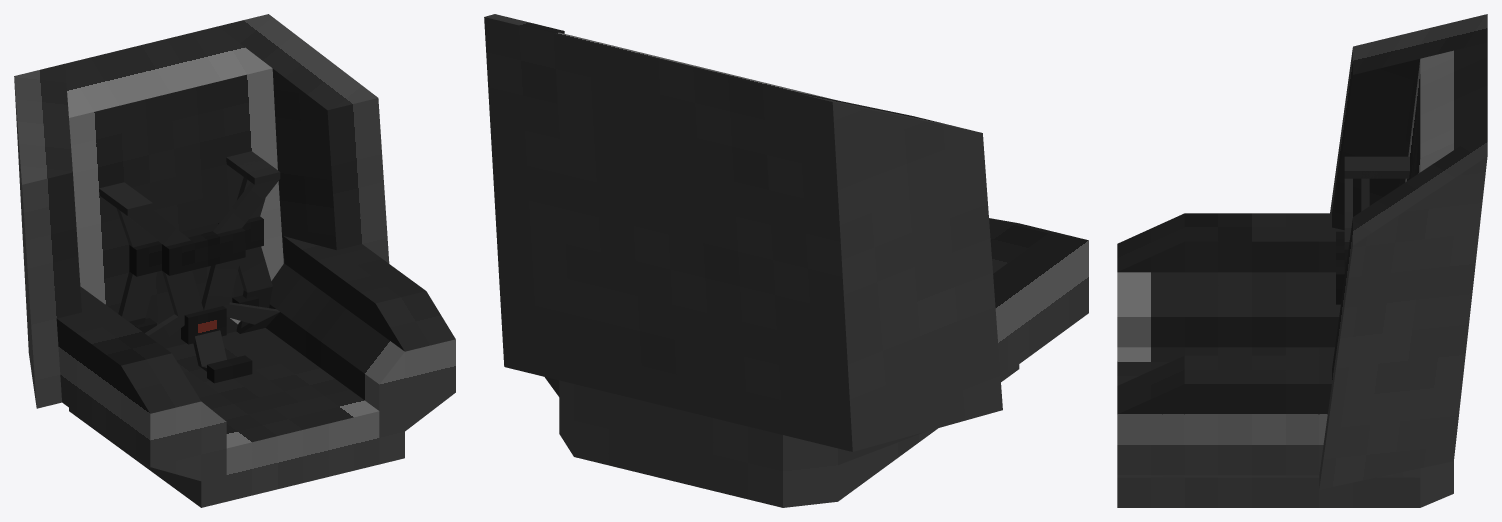
File: carrierseat.obj
The picture shows the model from 3 angles, left to right: view 1: azimuth 30°, elevation 25°; view 2: azimuth 150°, elevation 25°; view 3: azimuth 270°, elevation 25°; orthographic projection. The views are drawn at different scales.
Parts seen in each view (by area): view 1: cuboid, seatbelt_buckled, seatbelt_unbuckled; view 2: cuboid; view 3: cuboid, seatbelt_buckled, seatbelt_unbuckled.
Boxes of the visible parts, left/top/right/bottom form: cuboid: left=14, top=14, right=455, bottom=507; seatbelt_buckled: left=99, top=151, right=280, bottom=366; seatbelt_unbuckled: left=99, top=151, right=272, bottom=383; cuboid: left=484, top=14, right=1088, bottom=507; cuboid: left=1117, top=14, right=1487, bottom=507; seatbelt_buckled: left=1336, top=156, right=1409, bottom=338; seatbelt_unbuckled: left=1361, top=156, right=1409, bottom=211.
Size of the model in its own units: 0.875 by 0.75 by 0.6875.
